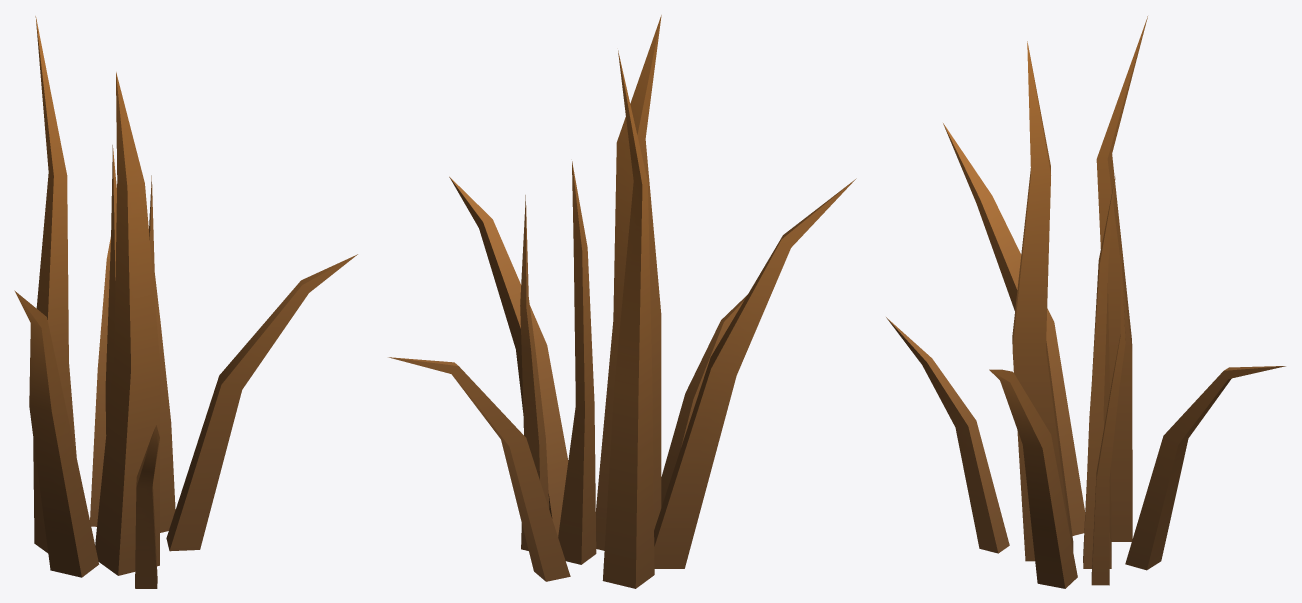
The model's file is Autumn_Grass_01.glb.
3 renders of one model, left to right at view 1: azimuth 30°, elevation 25°; view 2: azimuth 150°, elevation 25°; view 3: azimuth 270°, elevation 25°, orthographic. The views are drawn at different scales.
Parts seen in each view (by area): view 1: Autumn_Grass_01_LOD0; view 2: Autumn_Grass_01_LOD0; view 3: Autumn_Grass_01_LOD0.
Boxes of the visible parts, box(x1,y1,x2,y2) form: Autumn_Grass_01_LOD0: box(14, 16, 357, 588); Autumn_Grass_01_LOD0: box(388, 15, 856, 588); Autumn_Grass_01_LOD0: box(886, 16, 1285, 588).
Size of what is drawn, in the model's own units: 0.4749 by 0.6435 by 0.4538.
Materials: 1 (1 with a texture image).
